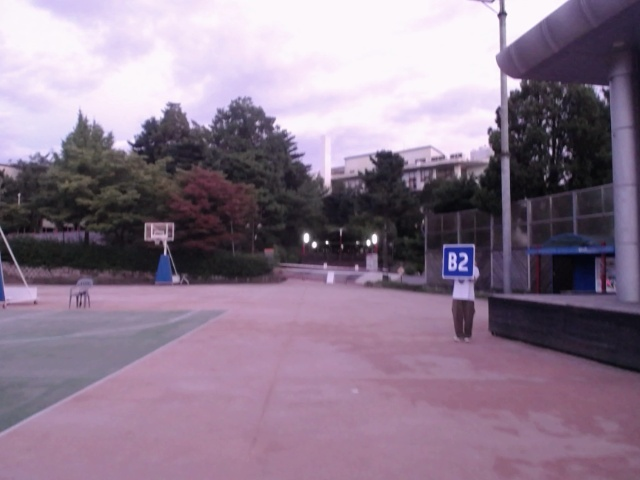delivery_b2: (474, 240, 509, 274)
